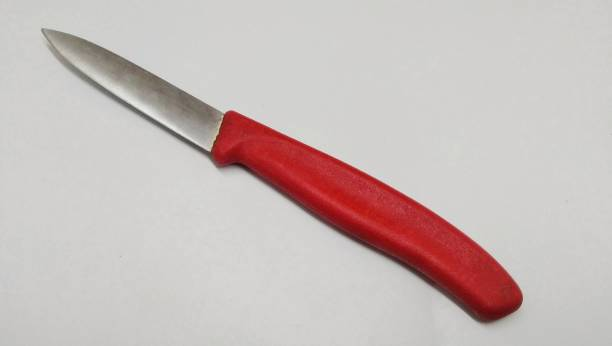knife: (38, 27, 524, 325)
